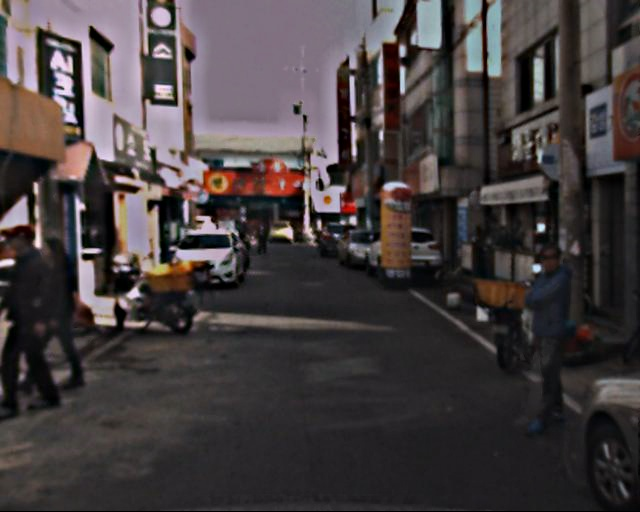person: (505, 242, 589, 439), (16, 230, 104, 400), (252, 214, 272, 263)
